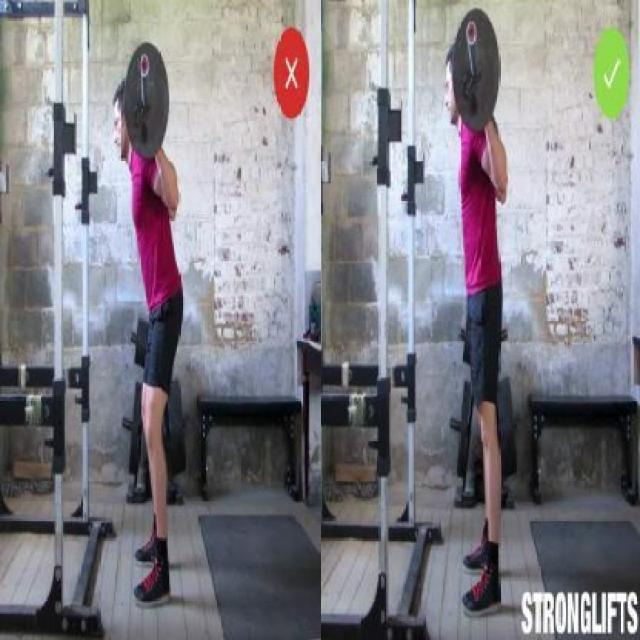barbell: (448, 8, 504, 133), (123, 41, 173, 164)
